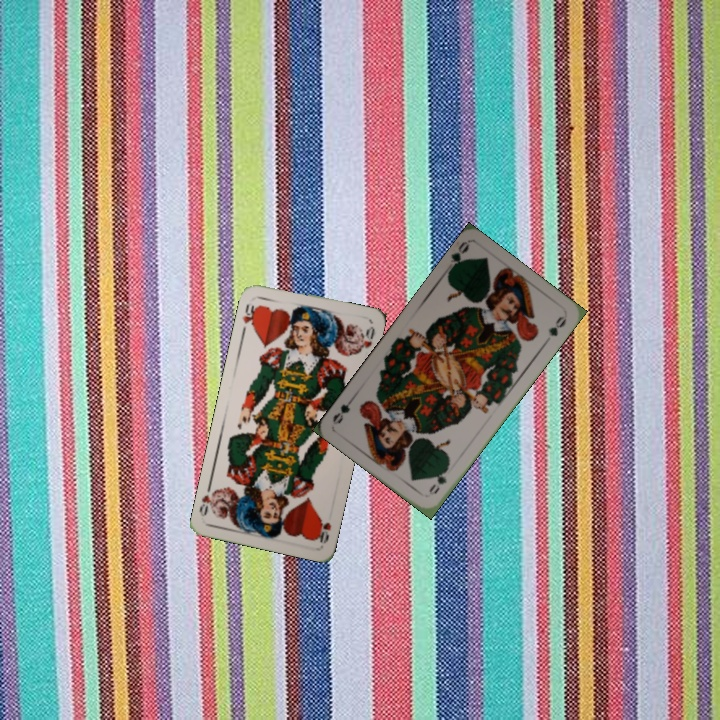GO: (444, 237, 471, 277), (425, 462, 451, 498)
HO: (238, 300, 261, 333), (313, 516, 334, 546)
